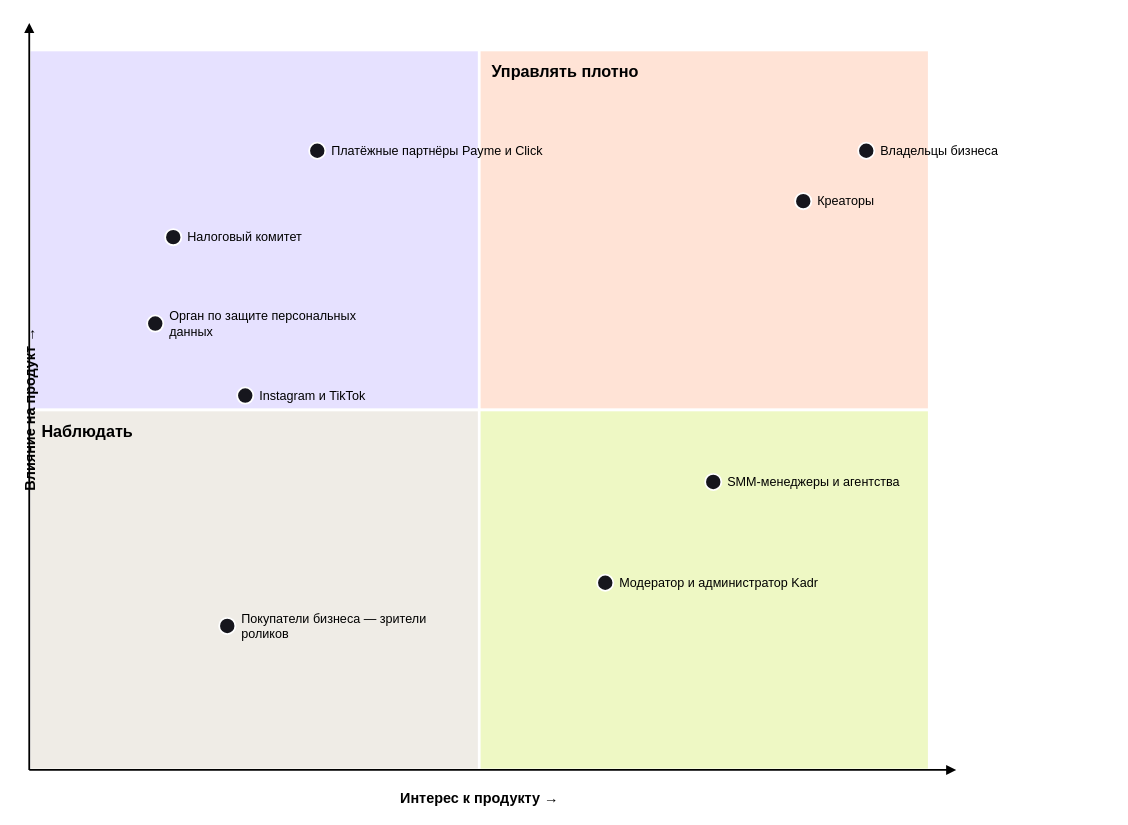
This 1128x825 diagram has some shape labels left out. Each missing label, with the box of its shape:
Информировать: (477, 408, 930, 771)
Удовлетворять: (27, 48, 480, 411)
